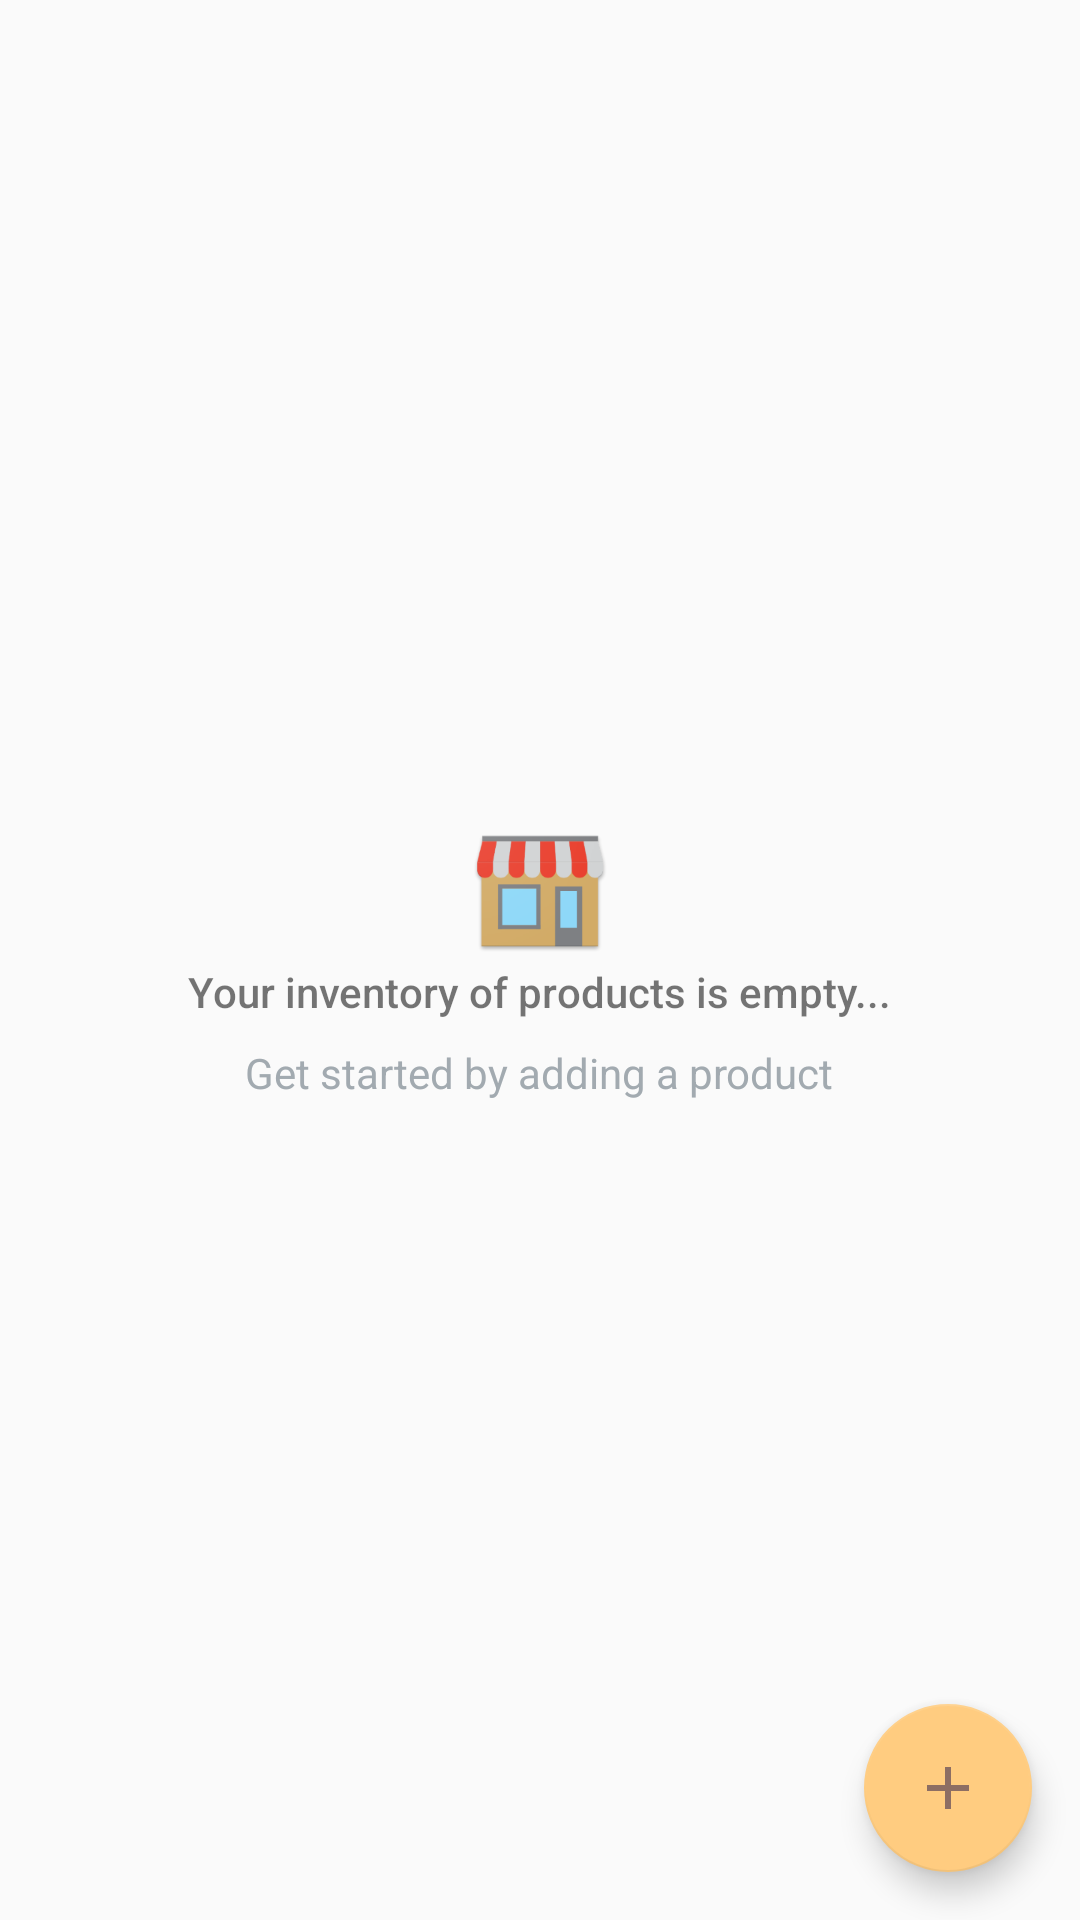

Where to tap for icons on this 1080w x 1920h app screen, as point (x, y):
add: point (948, 1788)
empty store: point (540, 892)
